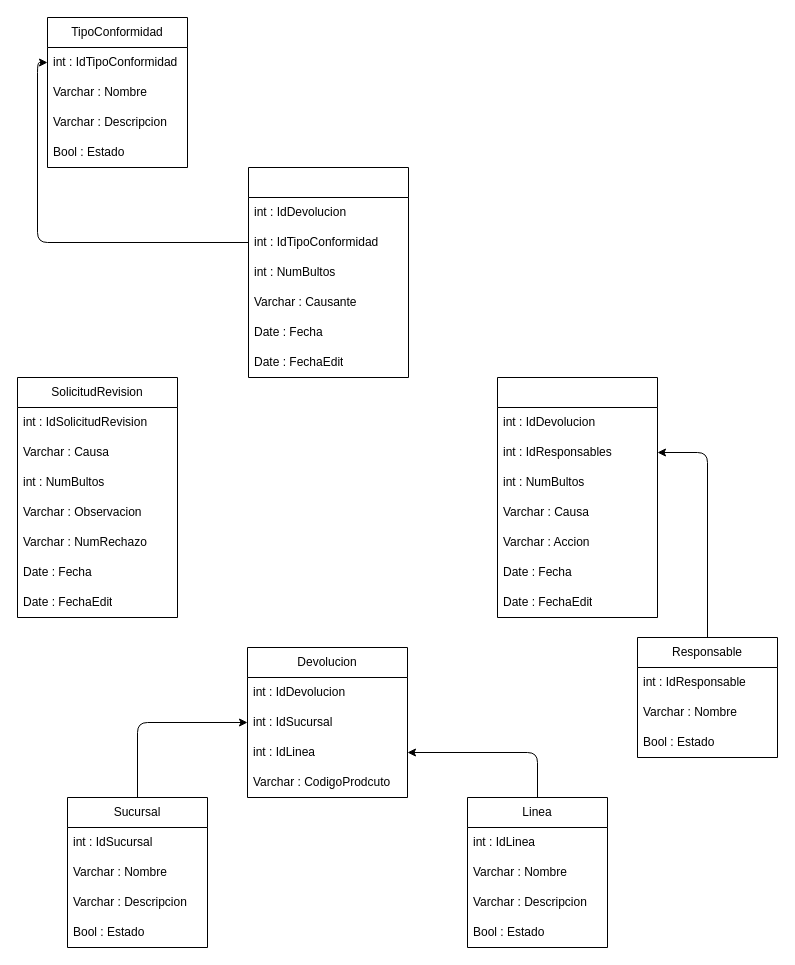
Image size: 795x965. Some labels were removed from this diagram. The shapes that lost their labels are listed below. From the top down, each one's box as (x1, y1, x2, y2) in pixels, then its label:
(248, 166, 408, 378): ProductoNoConforme
(496, 376, 658, 618): PlanAccion
